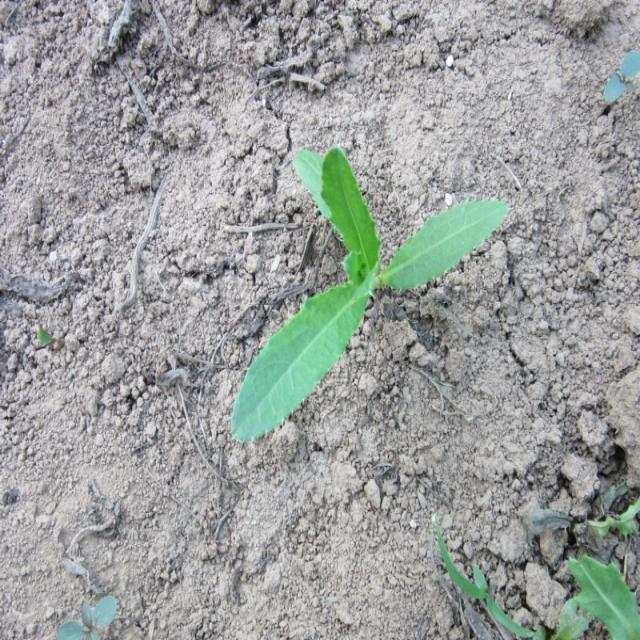cs: (230, 144, 512, 441)
